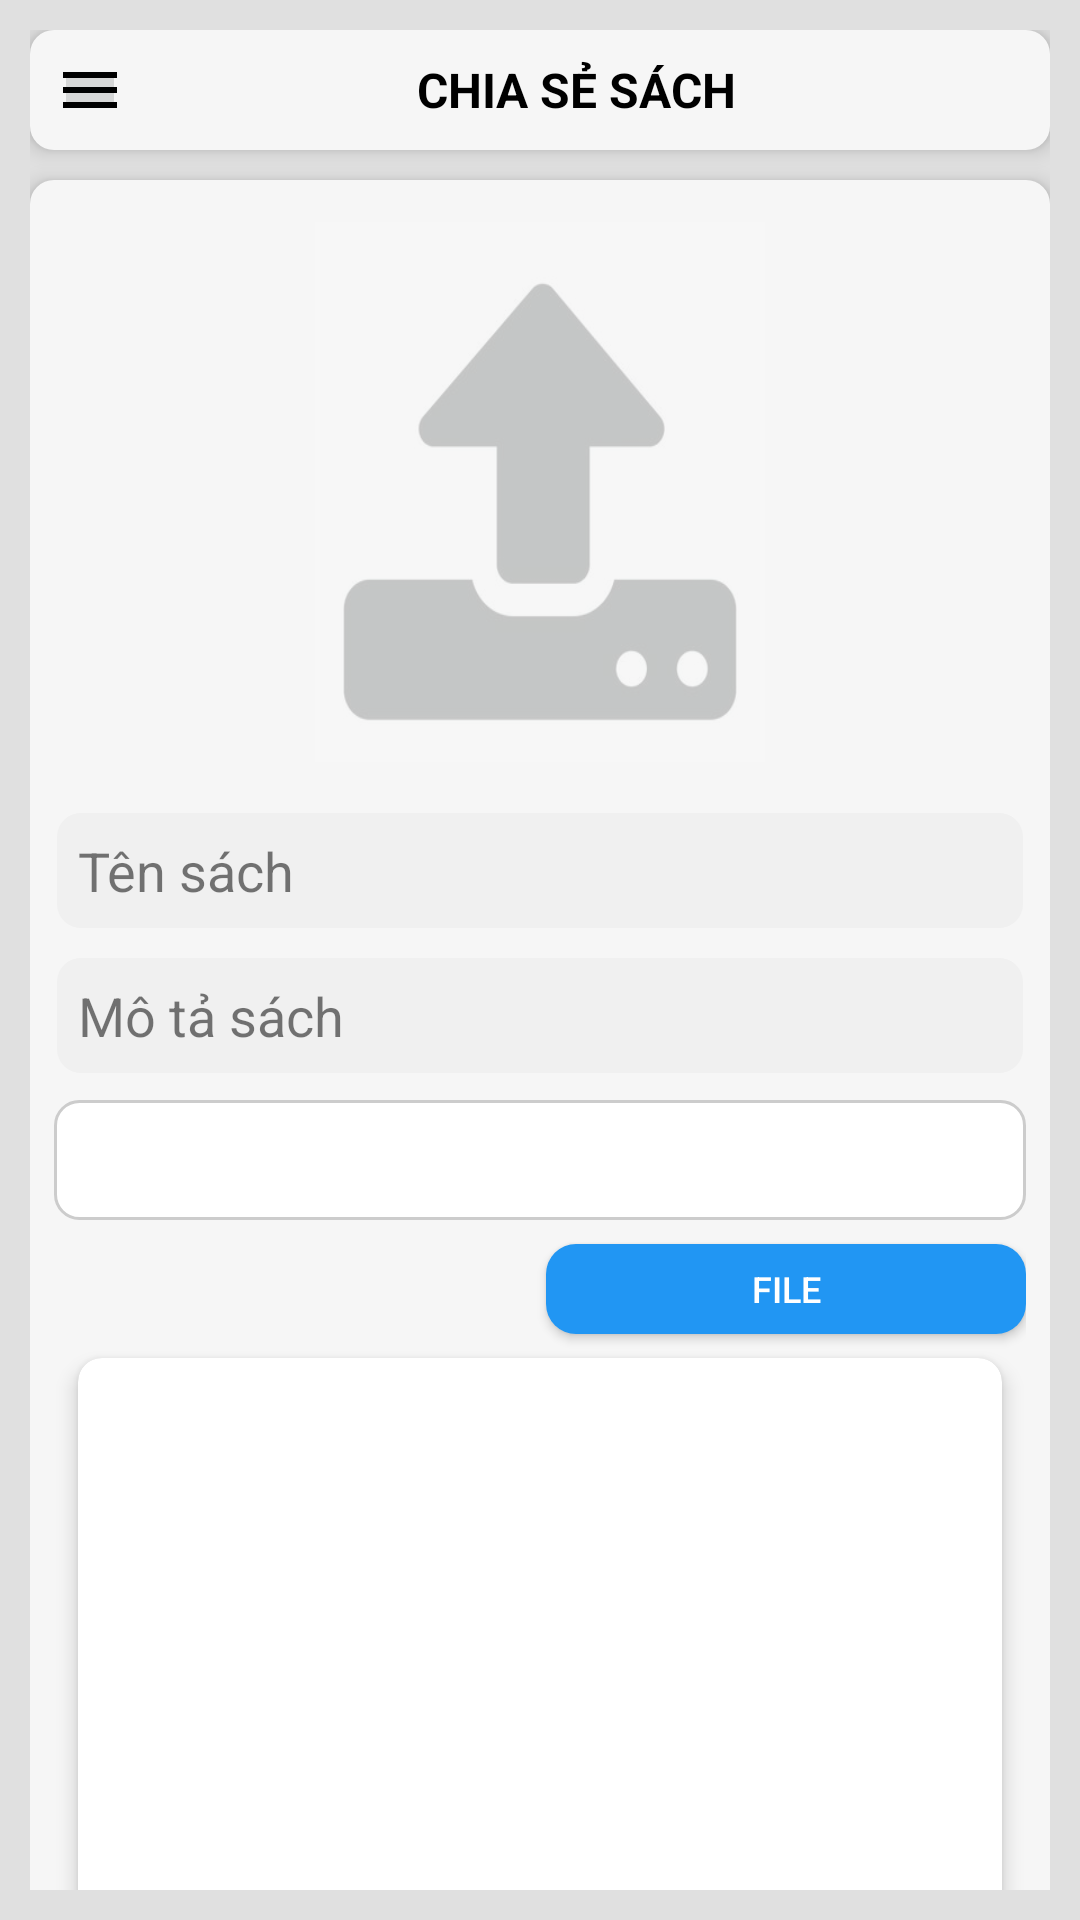

Icon bounding boxes for this 1080*1920 phone screenshot, format (x1, y1, x2, y2):
Menu: (63, 72, 117, 108)
